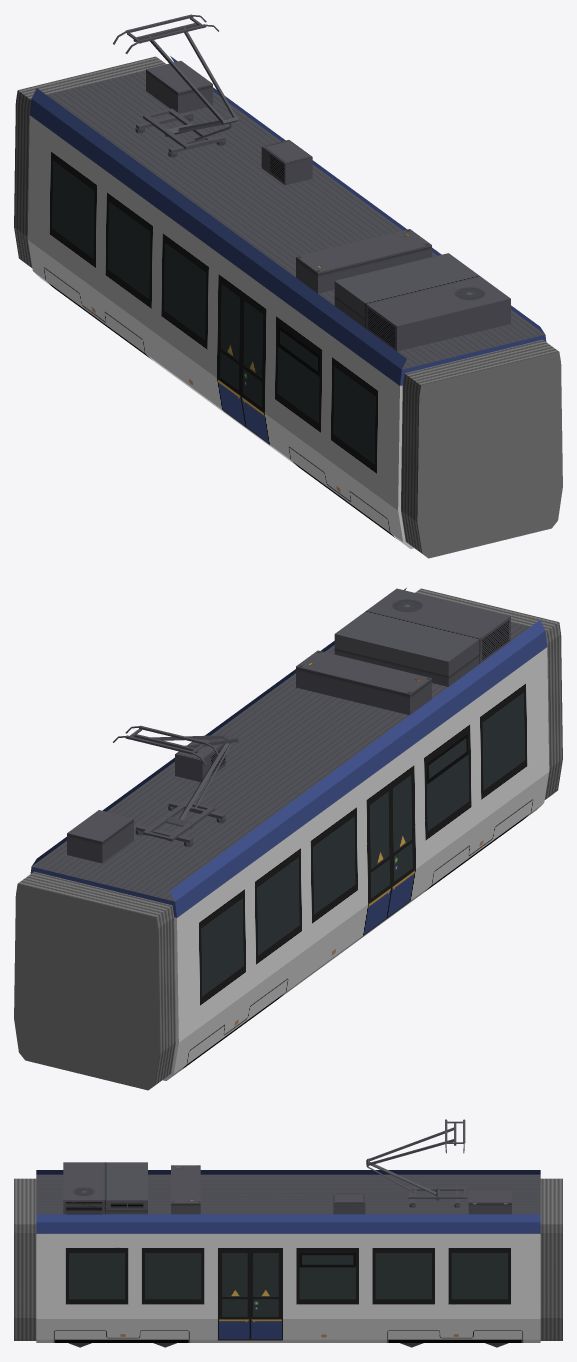
File: RegioCitadis-car2.glb
The picture shows the model from 3 angles, top to bottom: view 1: azimuth 30°, elevation 25°; view 2: azimuth 150°, elevation 25°; view 3: azimuth 270°, elevation 25°; orthographic projection. The views are drawn at different scales.
Parts seen in each view (by area): view 1: Cube; view 2: Cube; view 3: Cube.
Part boxes in pixels (x1,y1,x2,y2): Cube: (14, 14, 562, 558); Cube: (14, 588, 562, 1090); Cube: (14, 1119, 562, 1347).
Size of the model in its own units: 2.65 by 4.94 by 12.25.
1 material, 1 textured.
